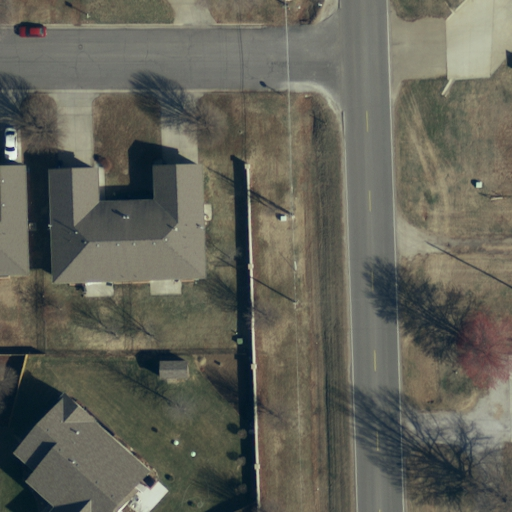DT: (281, 204, 304, 228), (287, 290, 307, 313)
